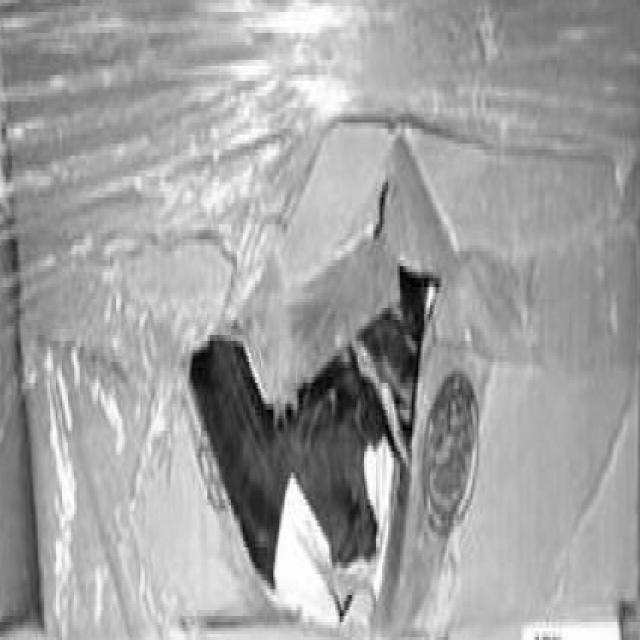hole: (185, 227, 435, 626)
